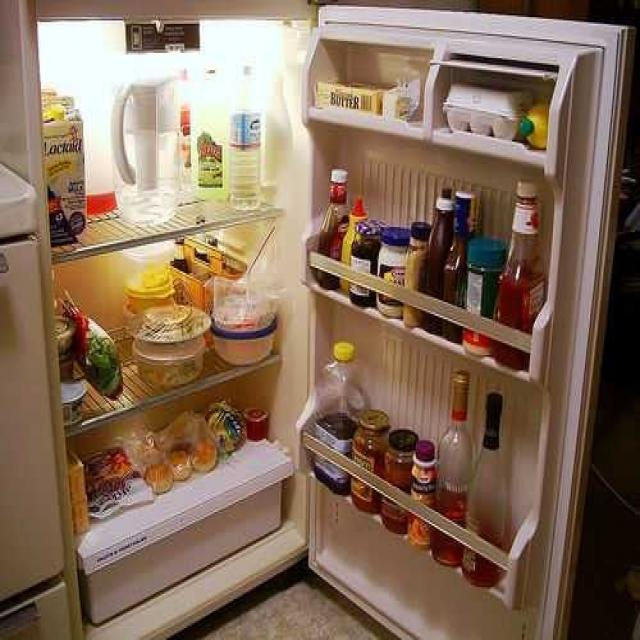refrigerator: (28, 1, 567, 635)
